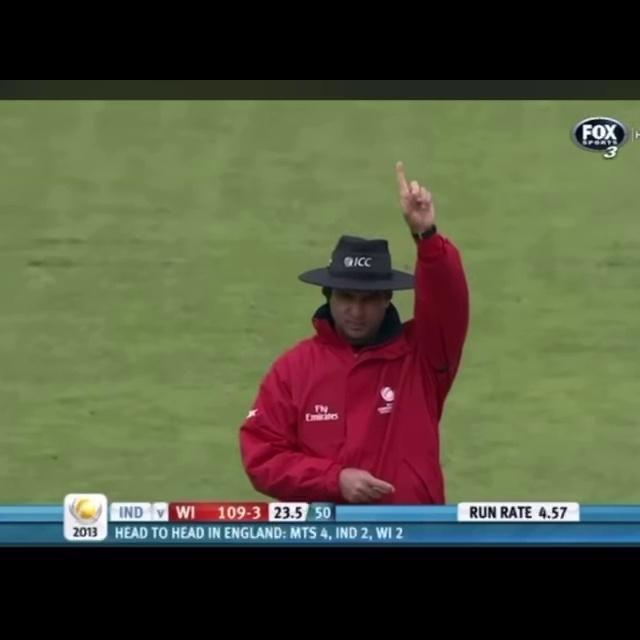umpire: (208, 136, 507, 502)
